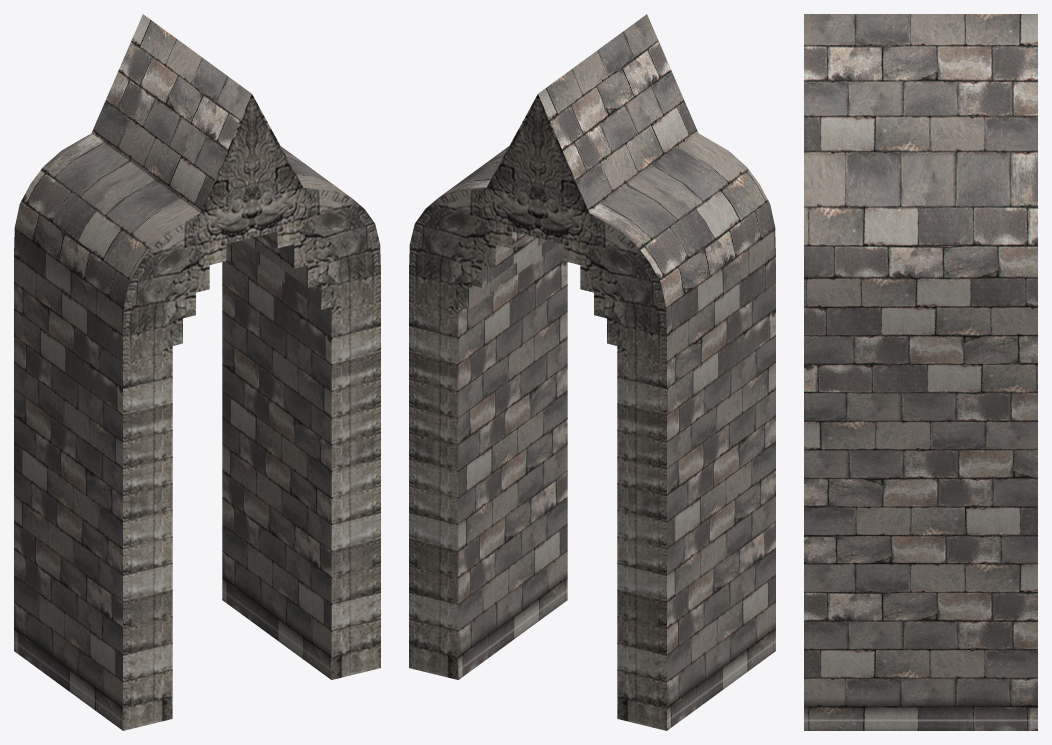
The model's file is Gate_A.FBX.
3 views of the same model, side by side, from view 1: azimuth 30°, elevation 25°; view 2: azimuth 150°, elevation 25°; view 3: azimuth 270°, elevation 25° (orthographic). The views are drawn at different scales.
Visible parts, largest first — view 1: Gate_A; view 2: Gate_A; view 3: Gate_A.
Boxes of the visible parts, x1=… form: Gate_A: x1=14, y1=14, x2=380, y2=730; Gate_A: x1=409, y1=14, x2=775, y2=730; Gate_A: x1=804, y1=14, x2=1037, y2=730.
Bounding box in the file's own units: 2.59 × 5.82 × 1.9.
